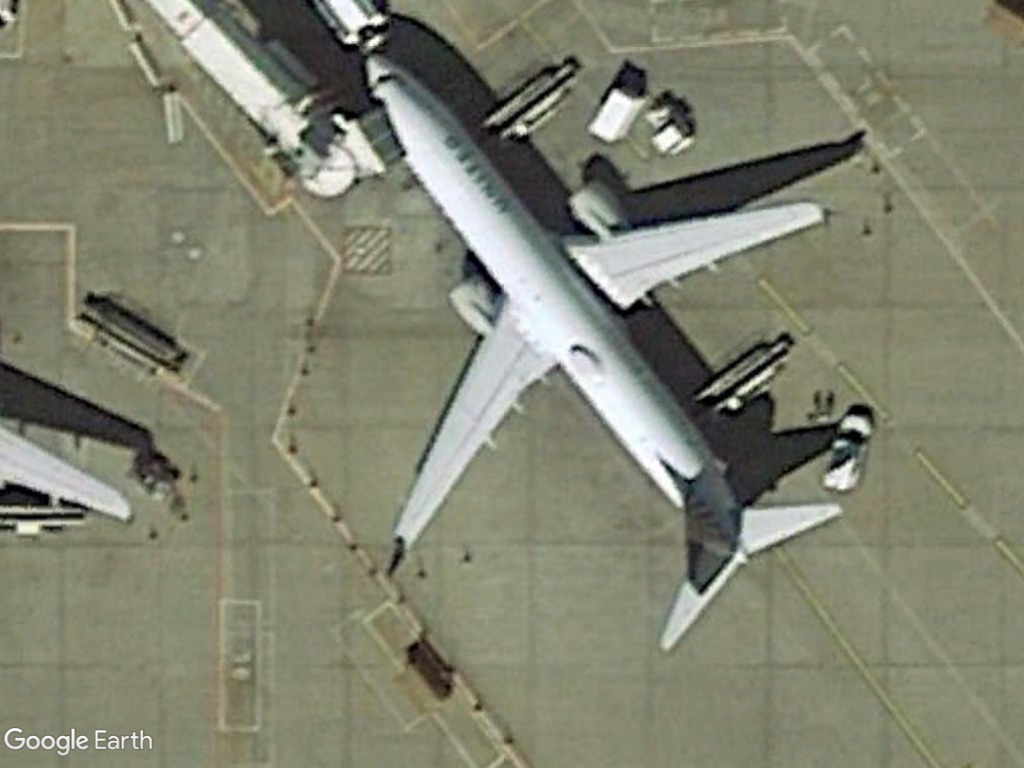airliner: (355, 45, 850, 654)
